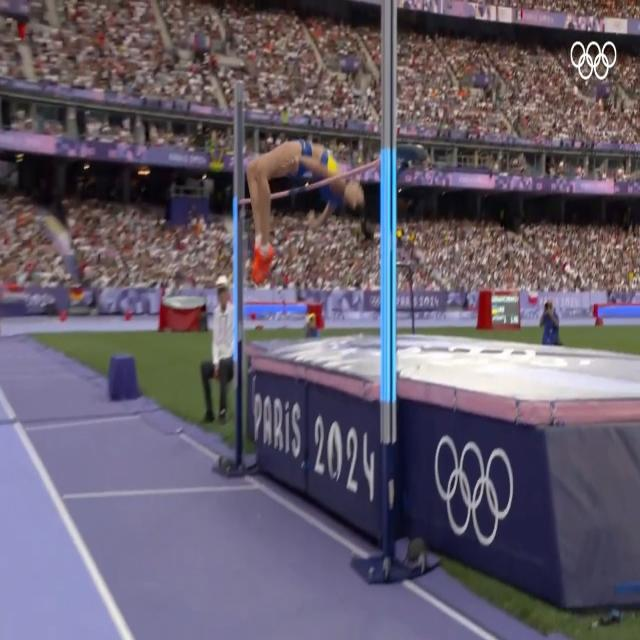jump: (225, 137, 369, 283)
